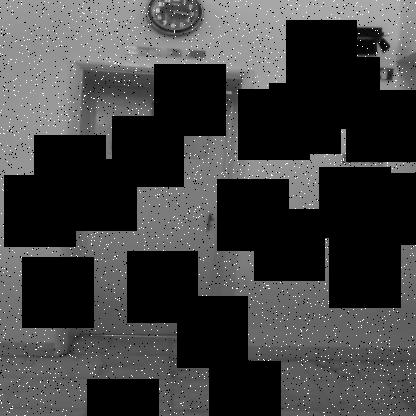Porte: (59, 61, 258, 359)
